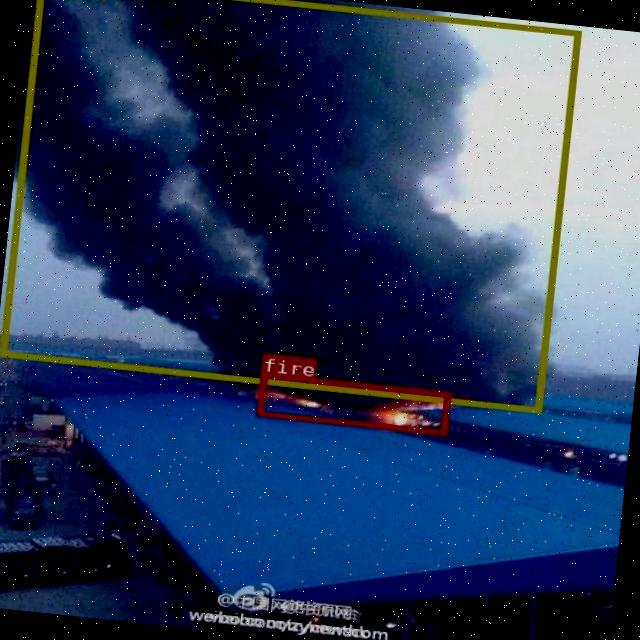fire: (255, 371, 449, 434)
smoke: (0, 0, 579, 411)
